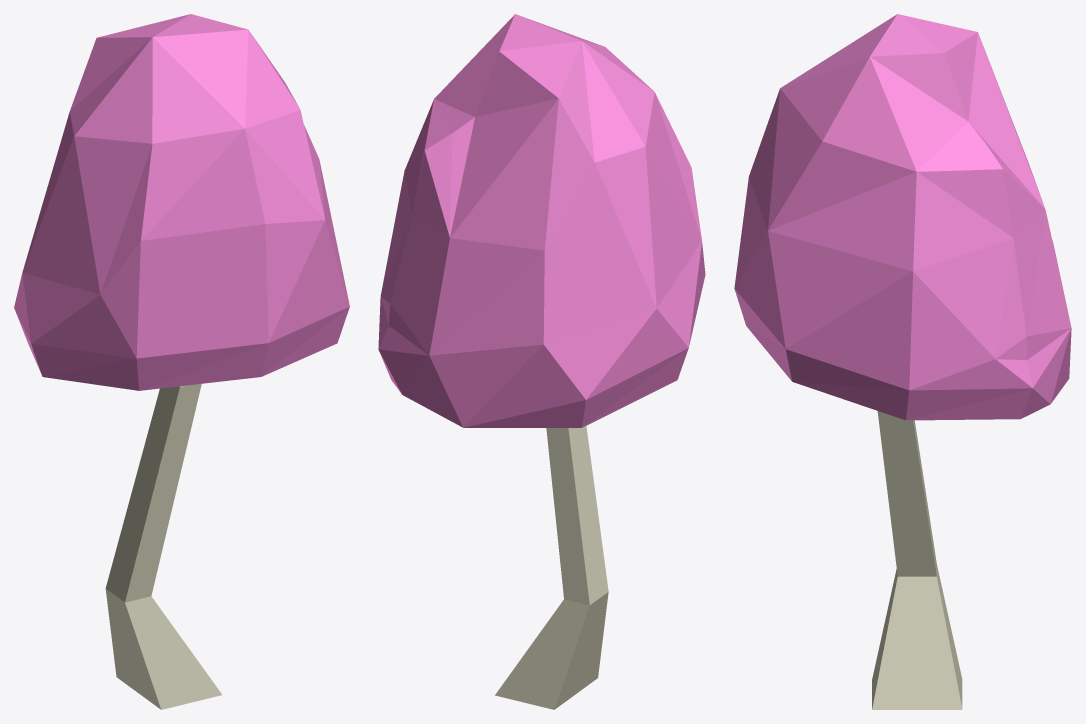
Rendered from Mushroom2.fbx.
3 views of the same model, side by side, from view 1: azimuth 30°, elevation 25°; view 2: azimuth 150°, elevation 25°; view 3: azimuth 270°, elevation 25° (orthographic). The views are drawn at different scales.
Visible parts, largest first — view 1: Mushroom2; view 2: Mushroom2; view 3: Mushroom2.
Part boxes in pixels (x1=…): Mushroom2: x1=14, y1=14, x2=349, y2=709; Mushroom2: x1=378, y1=14, x2=705, y2=709; Mushroom2: x1=734, y1=14, x2=1071, y2=709.
Bounding box in the file's own units: 9.61 × 20.18 × 9.23.
